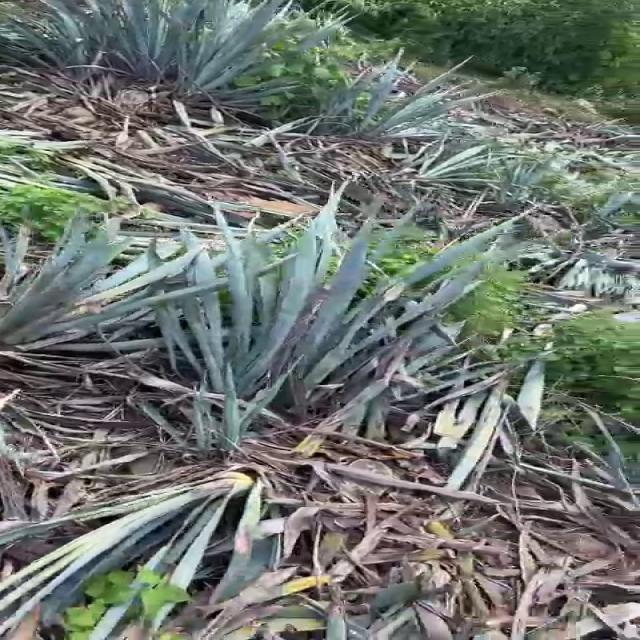agave: (165, 207, 502, 426), (0, 199, 203, 389)
